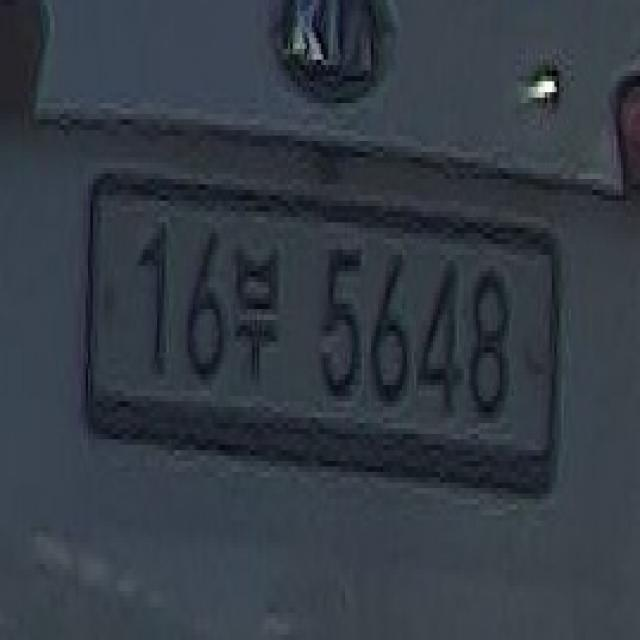1: (128, 206, 174, 396)
4: (414, 238, 466, 428)
5: (309, 228, 366, 418)
6: (362, 233, 414, 423), (178, 222, 228, 396)
8: (466, 250, 512, 440)
bu: (228, 228, 281, 407)
license_plate: (69, 163, 566, 510)
